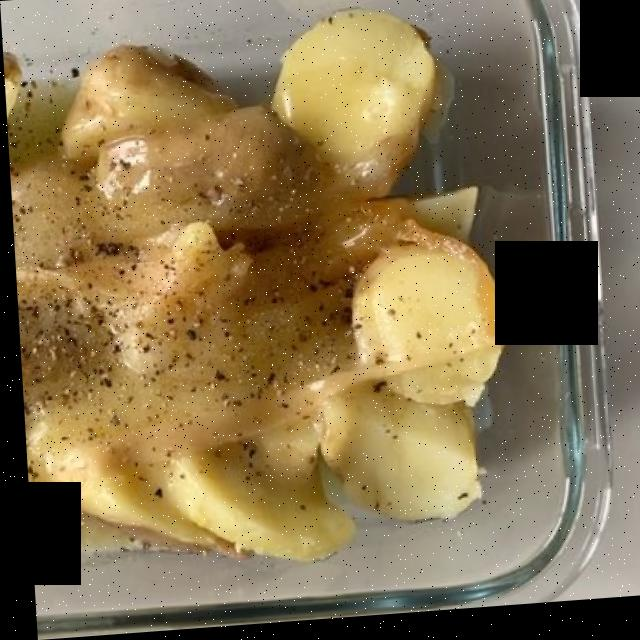cheese-for-raclette: (23, 21, 492, 565)
potatoes-steamed: (13, 34, 514, 567)
